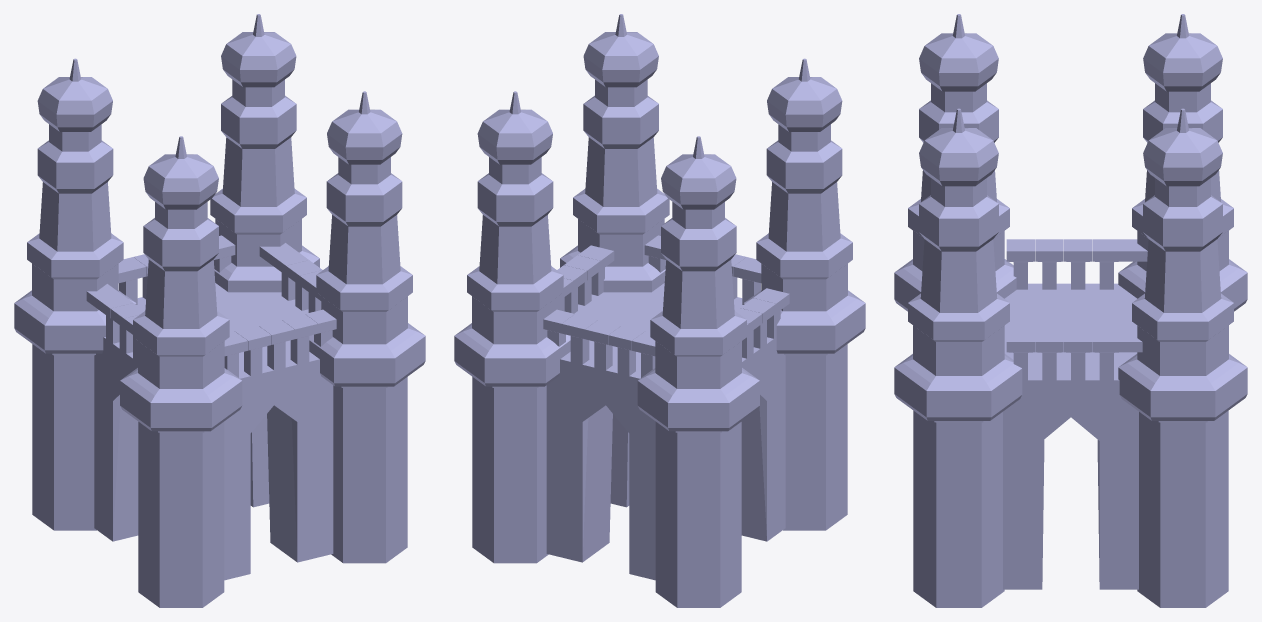
Rendered from portfolio_char_updated.glb.
3 views of the same model, side by side, from view 1: azimuth 30°, elevation 25°; view 2: azimuth 150°, elevation 25°; view 3: azimuth 270°, elevation 25° (orthographic). The views are drawn at different scales.
Parts seen in each view (by area): view 1: Cube.001; view 2: Cube.001; view 3: Cube.001.
Part boxes in pixels (x1=…): Cube.001: x1=14, y1=14, x2=425, y2=607; Cube.001: x1=454, y1=14, x2=865, y2=607; Cube.001: x1=894, y1=14, x2=1247, y2=607.
Size of the model in its own units: 6.25 by 9.89 by 6.58.
